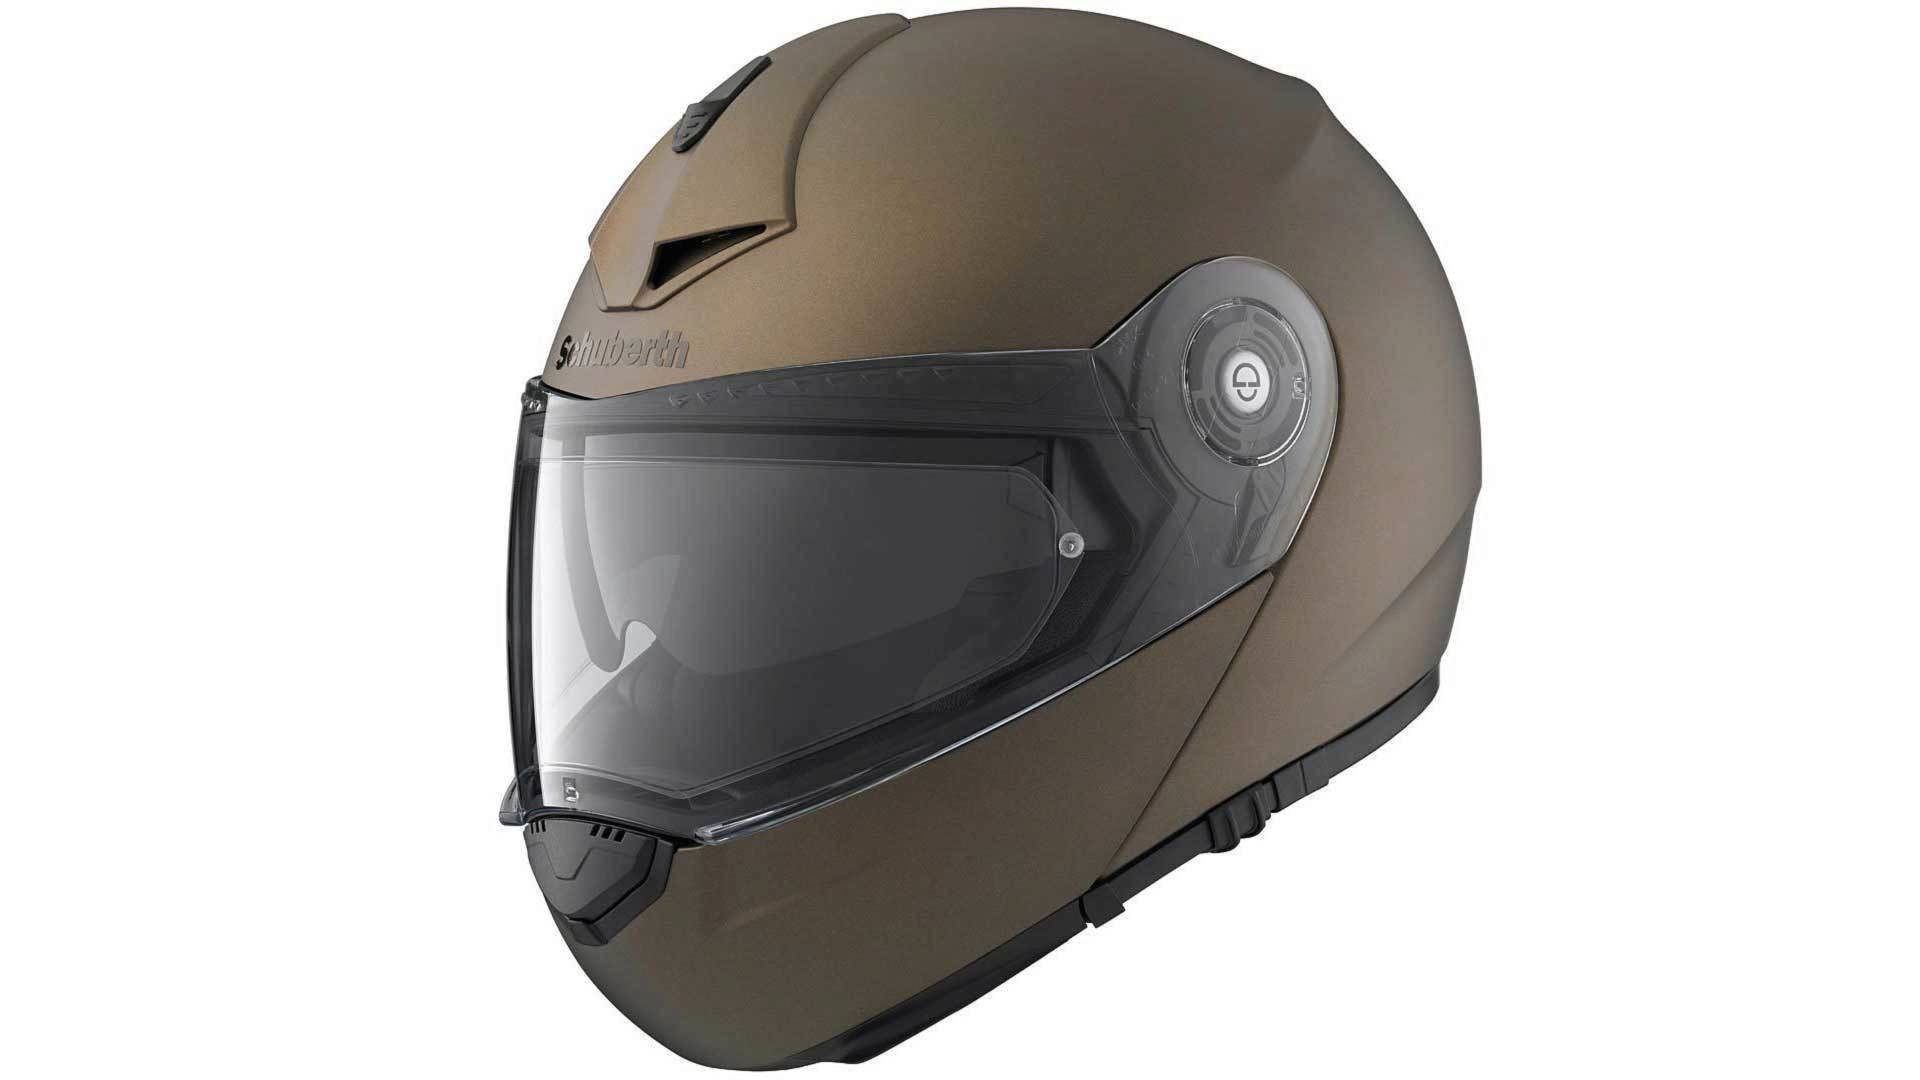with_helmet: (491, 1, 1503, 1080)
